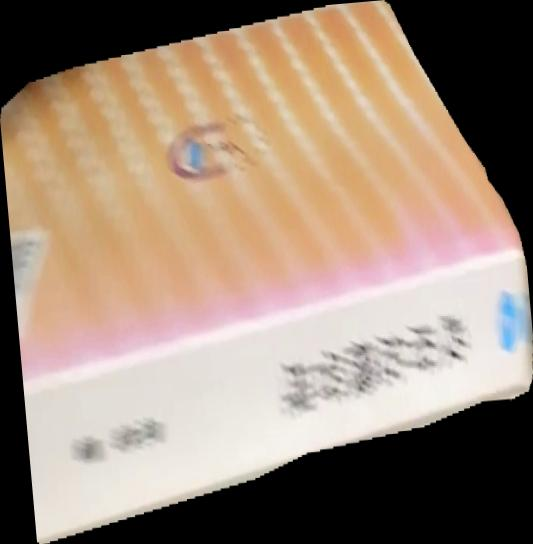flat: (1, 1, 533, 544)
